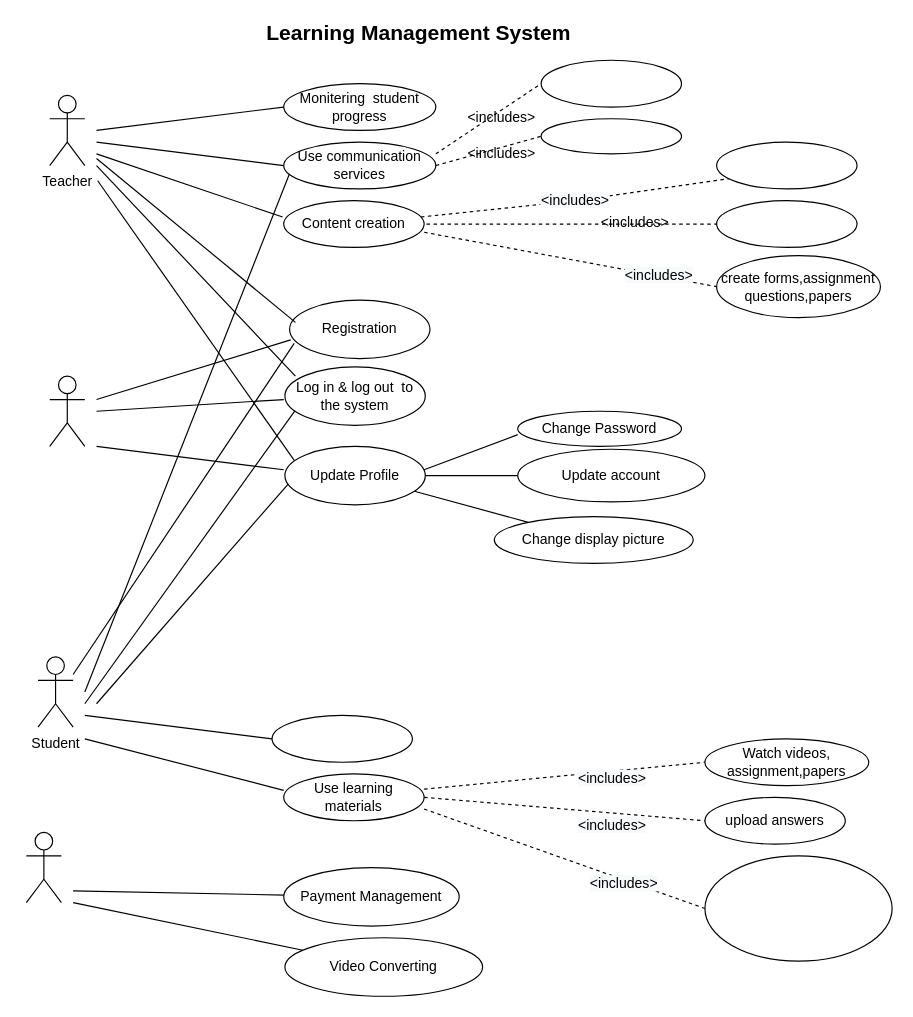
Some shapes in this 913 by 1017 pixel diagram are drawn without their labels. Each missing label, with the box of its shape:
Admin: (49, 375, 85, 446)
download papers,assignments, videos, download converted videos: (704, 855, 892, 961)
Live video conferencing: (540, 118, 682, 154)
Pay fees: (271, 714, 412, 762)
System: (25, 831, 61, 903)
upload lessons: (715, 199, 857, 247)
upload videos: (715, 141, 857, 189)
Use real time chat: (540, 59, 682, 107)
